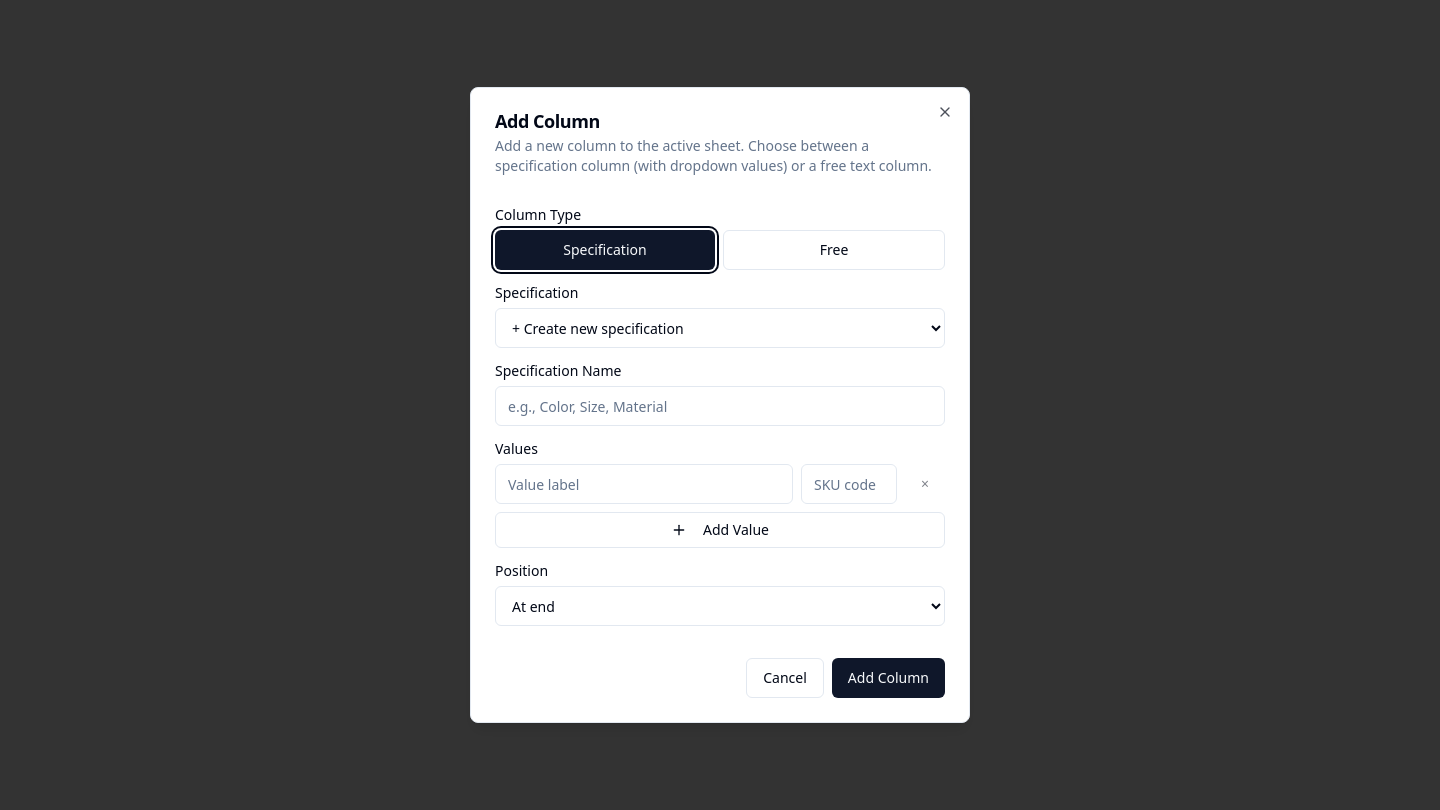
AddColumnDialog › Column Type Toggle › switches to free type when Free button clicked
The width and height of the screenshot is (1440, 810).
Click the button with test id "column-type-free": point(834, 250) [723,230,945,270]
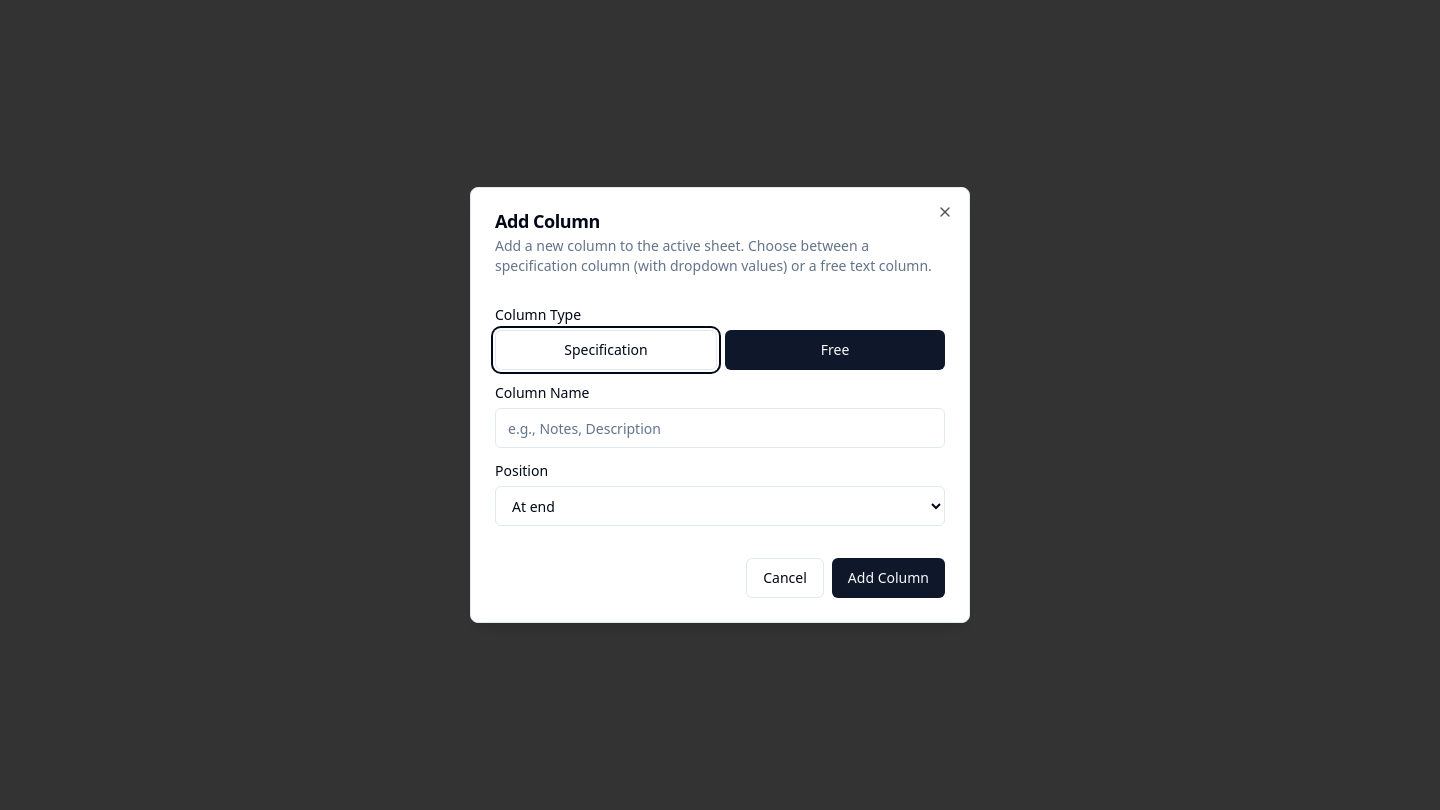
Check: the field with test id "free-column-name" is shown, box [495,408,945,448]
